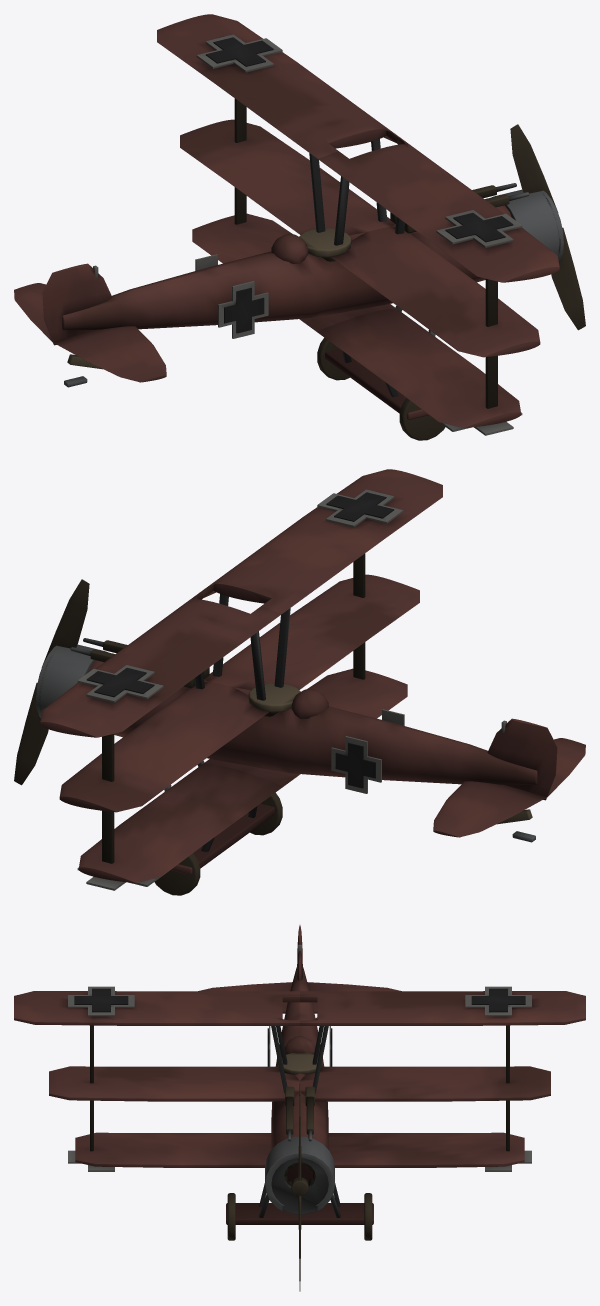
The model's file is fokker_dr1.glb.
3 renders of one model, top to bottom at view 1: azimuth 30°, elevation 25°; view 2: azimuth 150°, elevation 25°; view 3: azimuth 270°, elevation 25°, orthographic. The views are drawn at different scales.
Visible parts, largest first — view 1: top_wing, mid_wing, fuselage, low_wing, cross, struts, tail, rudder, prop, engine, gear, guns; view 2: top_wing, mid_wing, fuselage, low_wing, cross, struts, tail, rudder, prop, engine, gear, guns; view 3: top_wing, mid_wing, low_wing, fuselage, struts, engine, cross, tail, gear, guns, prop.
Boxes of the visible parts, <box> form: top_wing: <box>157,14,559,282</box>; mid_wing: <box>180,119,540,357</box>; fuselage: <box>62,205,511,330</box>; low_wing: <box>192,213,520,428</box>; cross: <box>195,34,522,435</box>; struts: <box>234,98,497,419</box>; tail: <box>14,283,166,382</box>; rudder: <box>42,263,112,345</box>; prop: <box>510,124,585,330</box>; engine: <box>492,189,563,262</box>; gear: <box>317,305,445,440</box>; guns: <box>390,183,529,233</box>; top_wing: <box>40,469,442,737</box>; mid_wing: <box>59,574,419,812</box>; fuselage: <box>88,660,537,785</box>; low_wing: <box>79,668,407,883</box>; cross: <box>77,489,404,890</box>; struts: <box>102,553,365,874</box>; tail: <box>433,738,585,837</box>; rudder: <box>487,718,557,800</box>; prop: <box>14,579,89,785</box>; engine: <box>36,644,107,717</box>; gear: <box>154,760,282,895</box>; guns: <box>70,638,209,688</box>; top_wing: <box>14,991,585,1025</box>; mid_wing: <box>49,1066,550,1101</box>; low_wing: <box>75,1132,524,1167</box>; fuselage: <box>271,967,328,1182</box>; struts: <box>90,1025,509,1224</box>; engine: <box>265,1136,334,1214</box>; cross: <box>68,986,531,1171</box>; tail: <box>198,982,401,1013</box>; gear: <box>227,1183,372,1240</box>; guns: <box>285,1086,314,1141</box>; prop: <box>291,1083,308,1291</box>.
Bounding box in the file's own units: 6.55 × 3.17 × 7.2.
